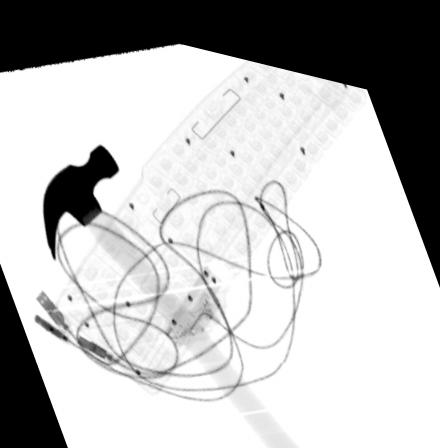Hammer: (40, 138, 303, 448)
